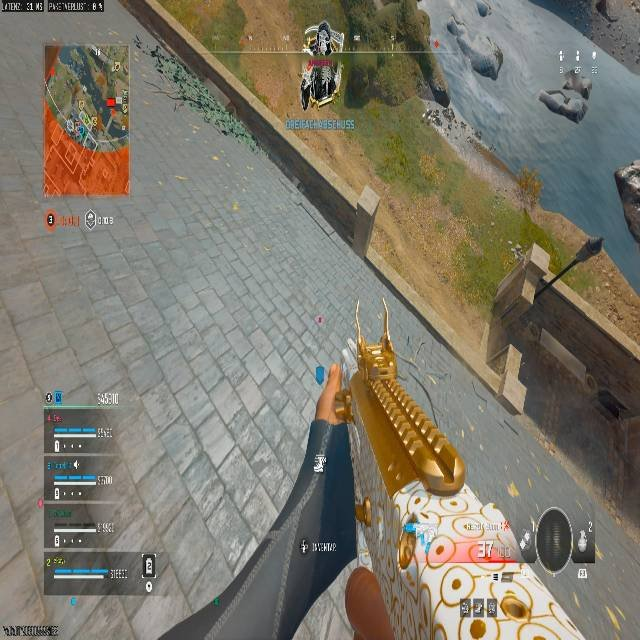player: (301, 22, 339, 107), (537, 68, 593, 125)
